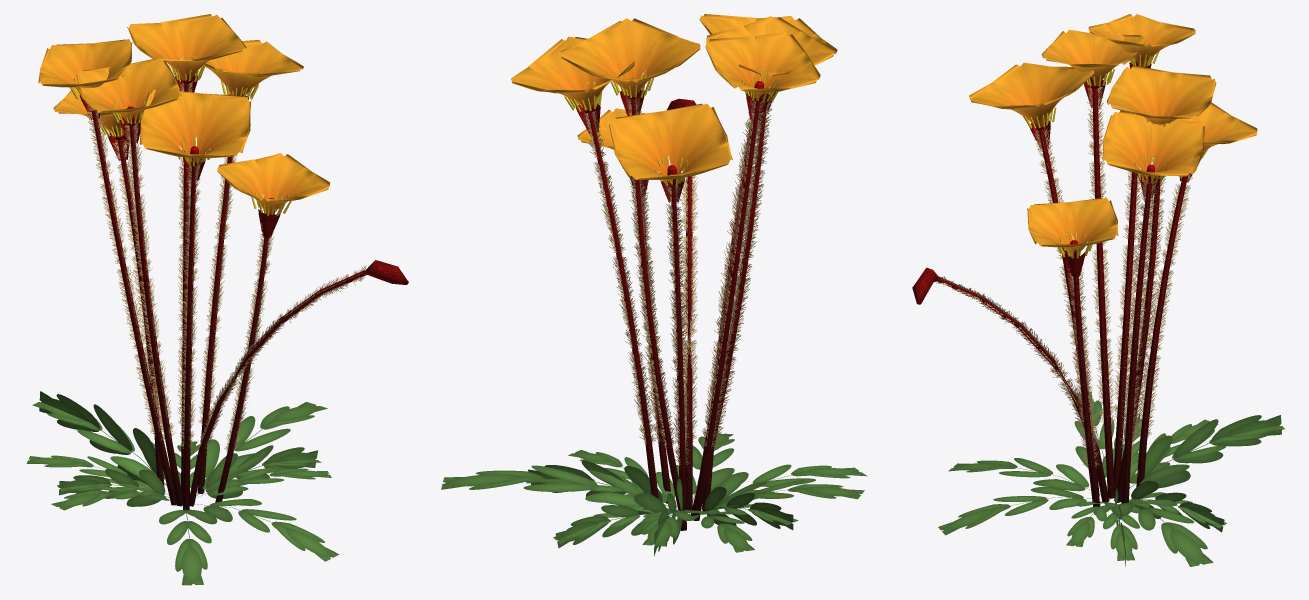
The model's file is arctic_poppy_v03.glb.
The picture shows the model from 3 angles, left to right: view 1: azimuth 30°, elevation 25°; view 2: azimuth 150°, elevation 25°; view 3: azimuth 270°, elevation 25°; orthographic projection. The views are drawn at different scales.
Parts seen in each view (by area): view 1: arctic_poppy_v03; view 2: arctic_poppy_v03; view 3: arctic_poppy_v03.
Boxes of the visible parts, x1,y1,x2,y2 form: arctic_poppy_v03: [26, 14, 408, 585]; arctic_poppy_v03: [441, 14, 867, 556]; arctic_poppy_v03: [912, 14, 1284, 566].
Bounding box in the file's own units: 0.205 × 0.2782 × 0.2056.
Materials: 5 (5 with a texture image).
